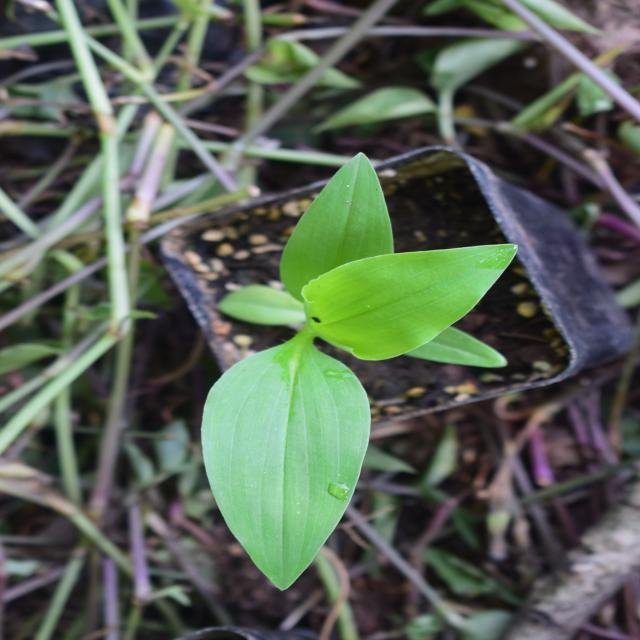Common Dayflower: (31, 147, 463, 500)
